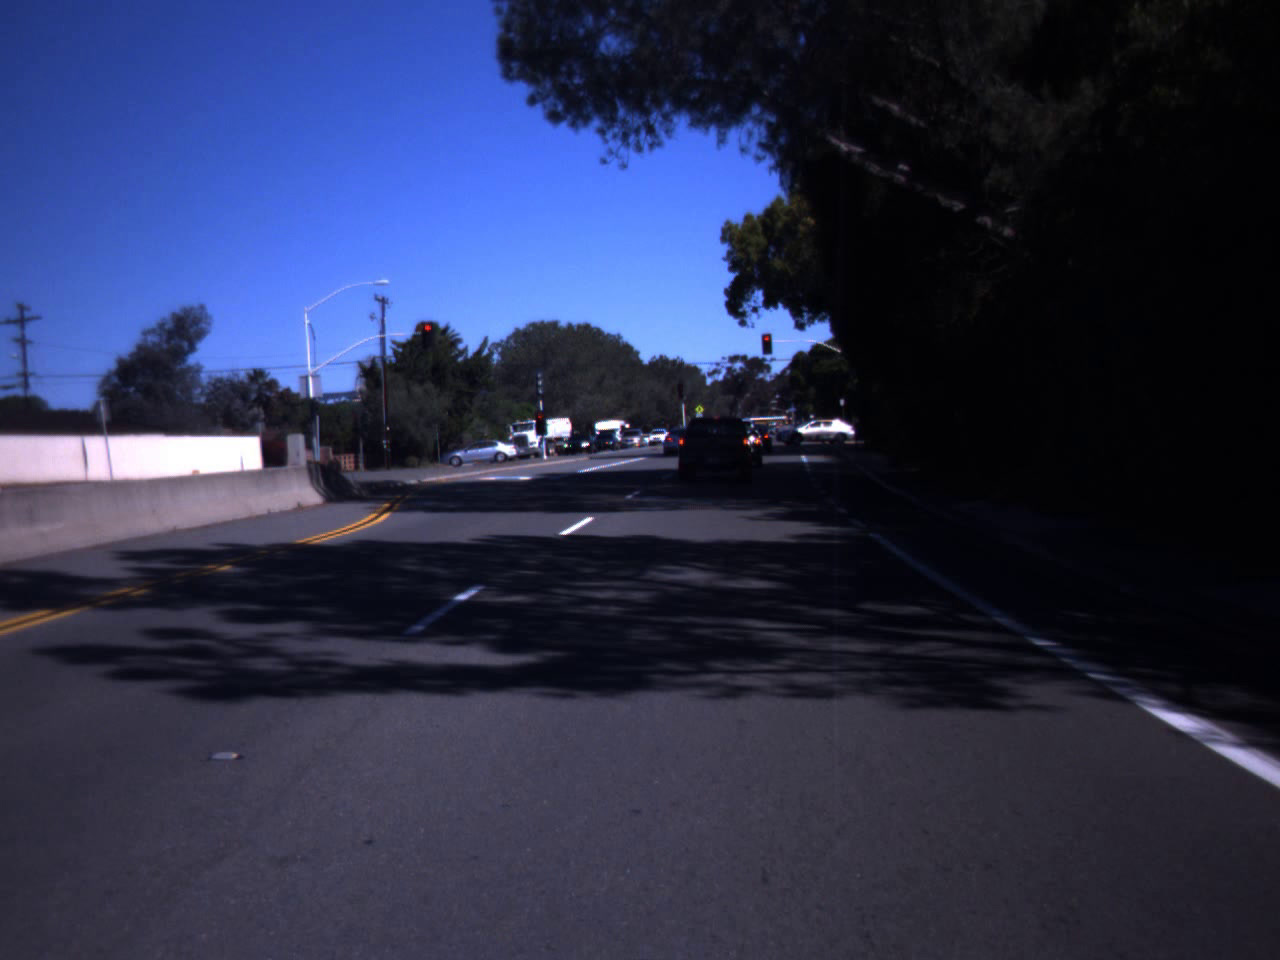stop: (420, 324, 435, 342), (759, 334, 774, 352), (534, 412, 546, 430)
